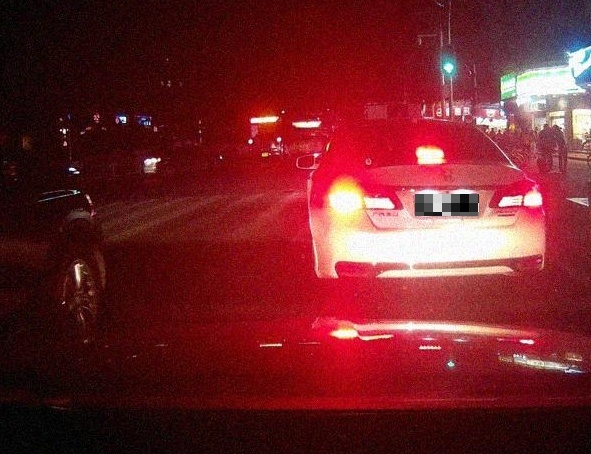L_light: (328, 185, 403, 212)
R_light: (489, 180, 543, 207)
T_light: (415, 148, 443, 159)
night-left: (310, 119, 545, 294)
plate_1: (415, 194, 479, 216)
